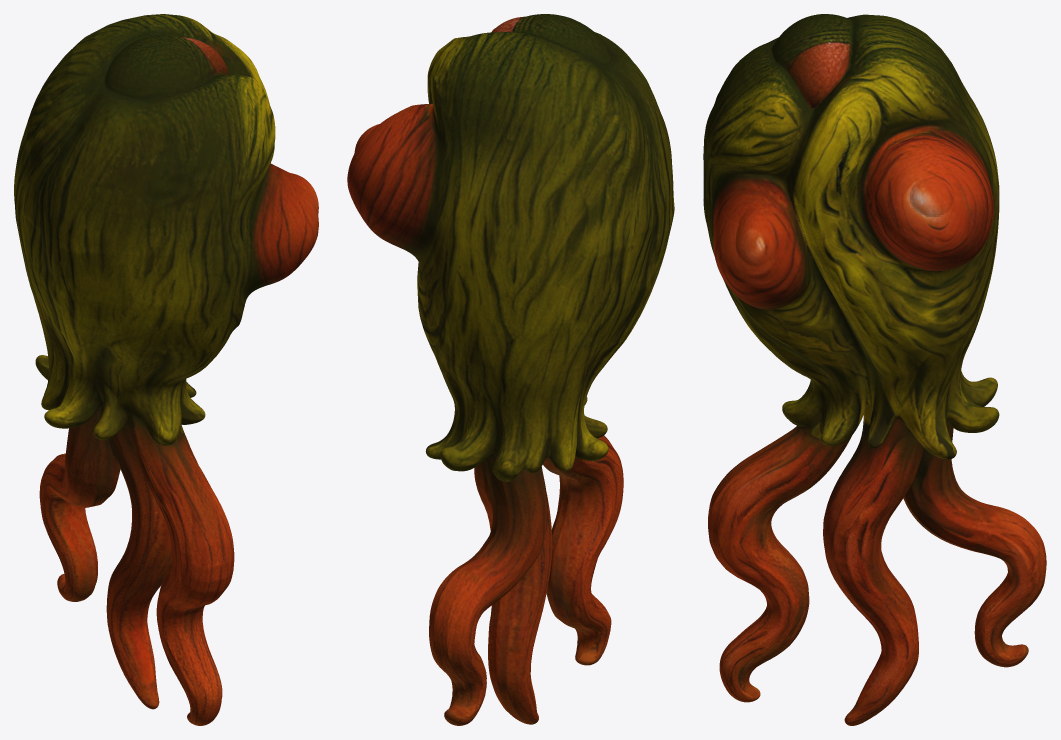
Rendered from Seedkreer.glb.
3 renders of one model, left to right at view 1: azimuth 30°, elevation 25°; view 2: azimuth 150°, elevation 25°; view 3: azimuth 270°, elevation 25°, orthographic. The views are drawn at different scales.
Visible parts, largest first — view 1: tripo_node_97594d68-4517-494b-a889-26a018ca9e09; view 2: tripo_node_97594d68-4517-494b-a889-26a018ca9e09; view 3: tripo_node_97594d68-4517-494b-a889-26a018ca9e09.
Boxes of the visible parts, x1,y1,x2,y2 form: tripo_node_97594d68-4517-494b-a889-26a018ca9e09: [14, 14, 318, 725]; tripo_node_97594d68-4517-494b-a889-26a018ca9e09: [347, 14, 674, 725]; tripo_node_97594d68-4517-494b-a889-26a018ca9e09: [703, 14, 1046, 725].
Size of the model in its own units: 0.3852 by 1 by 0.4431.
Materials: 1 (1 with a texture image).
